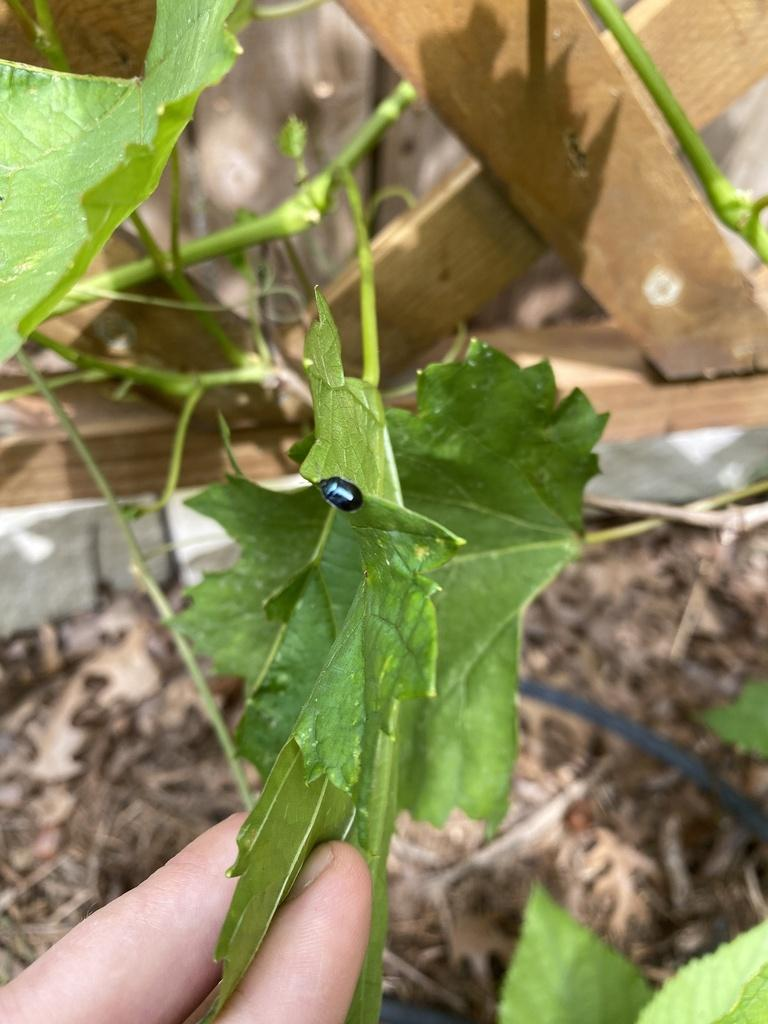flea_beetle: (297, 454, 380, 532)
